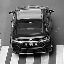mobil: (8, 4, 55, 55)
